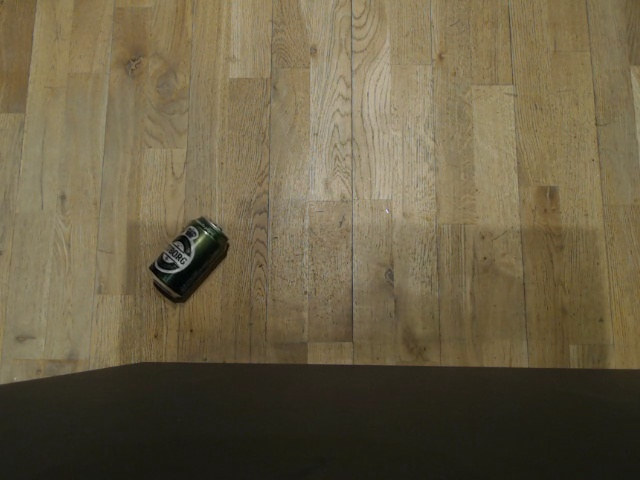beer: (144, 214, 231, 305)
